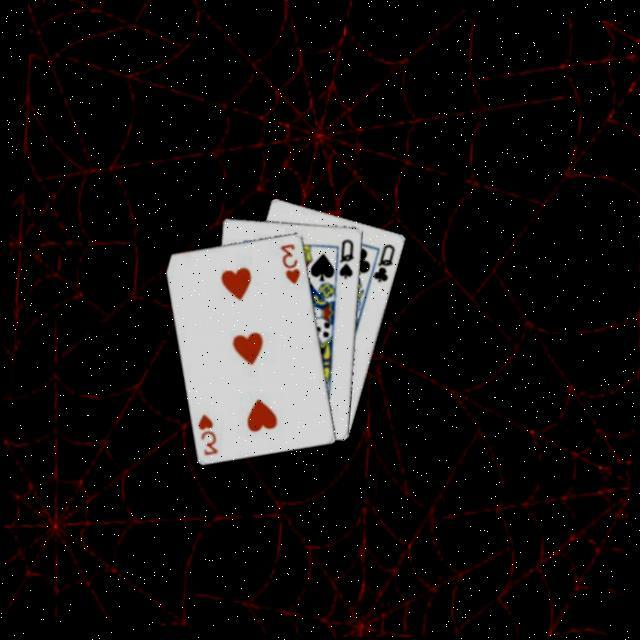3H: (274, 237, 306, 285), (192, 408, 224, 456)
QC: (370, 238, 400, 284)
QS: (336, 233, 360, 281)
